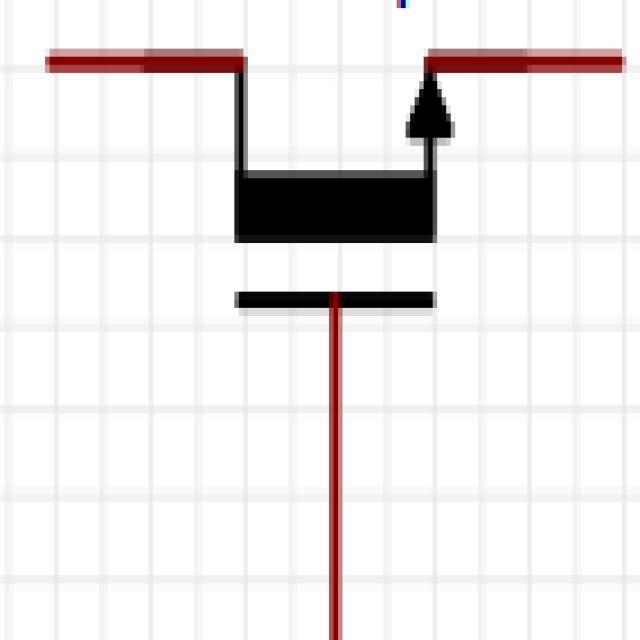nmos: (41, 18, 619, 630)
